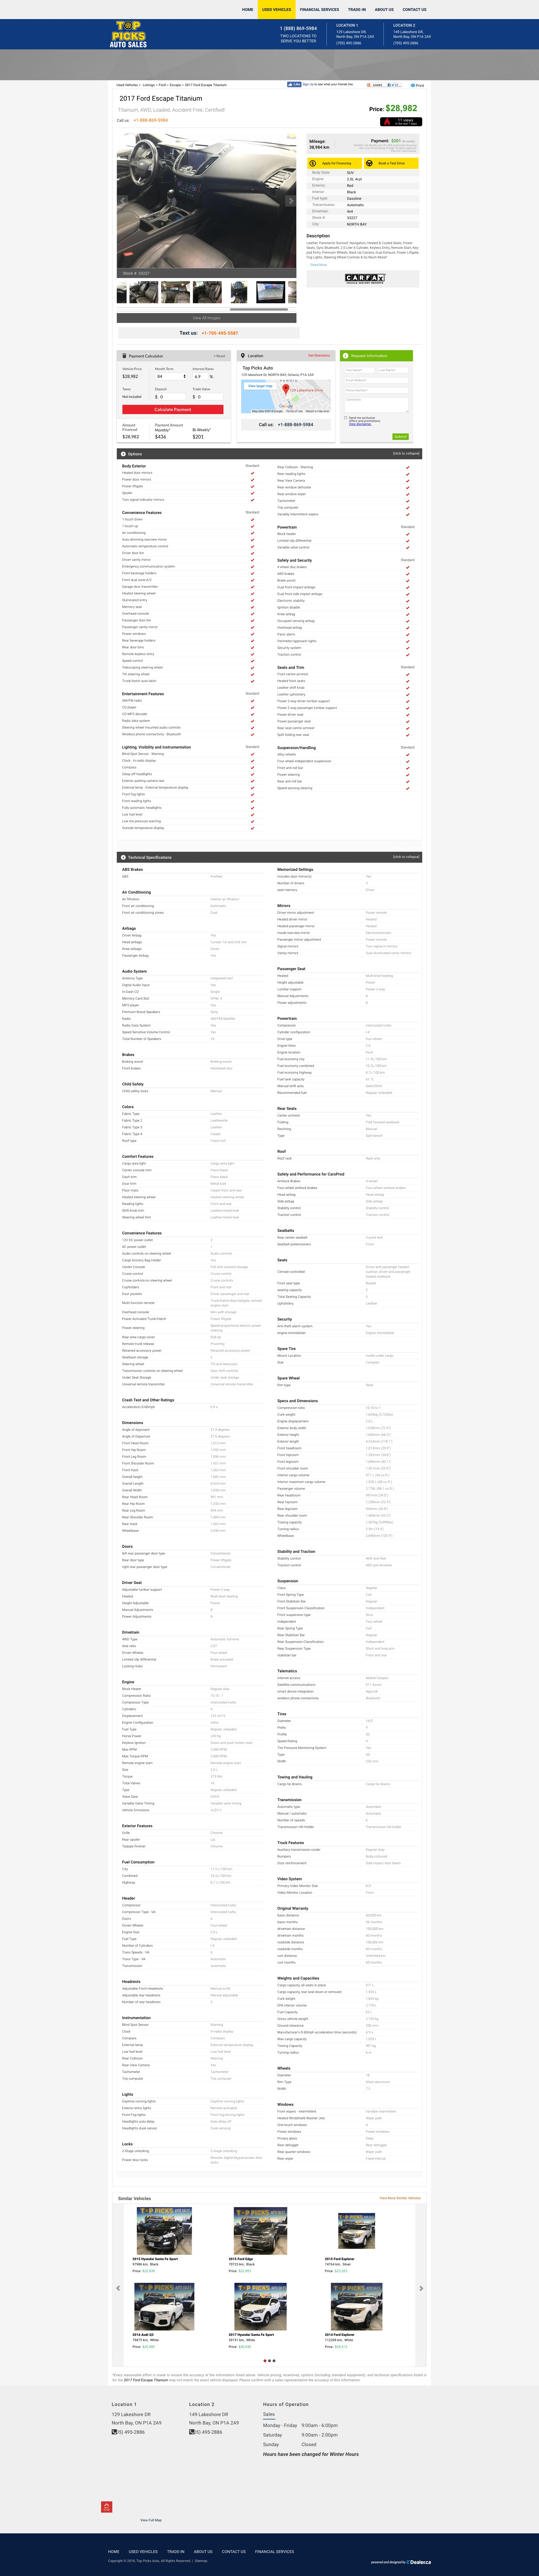car: (289, 197, 294, 205)
